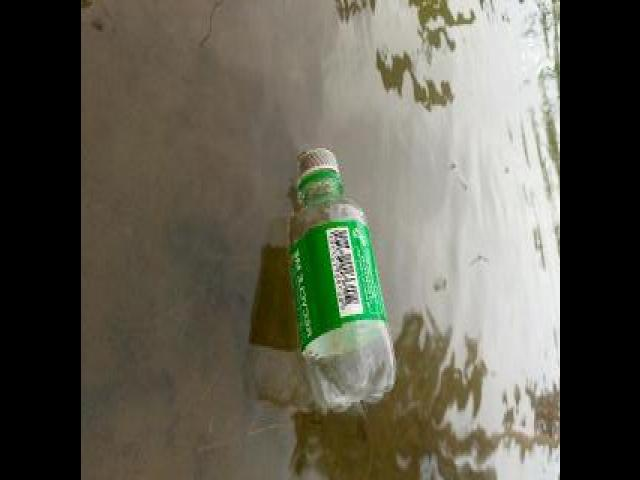Bottle: (280, 138, 398, 422)
